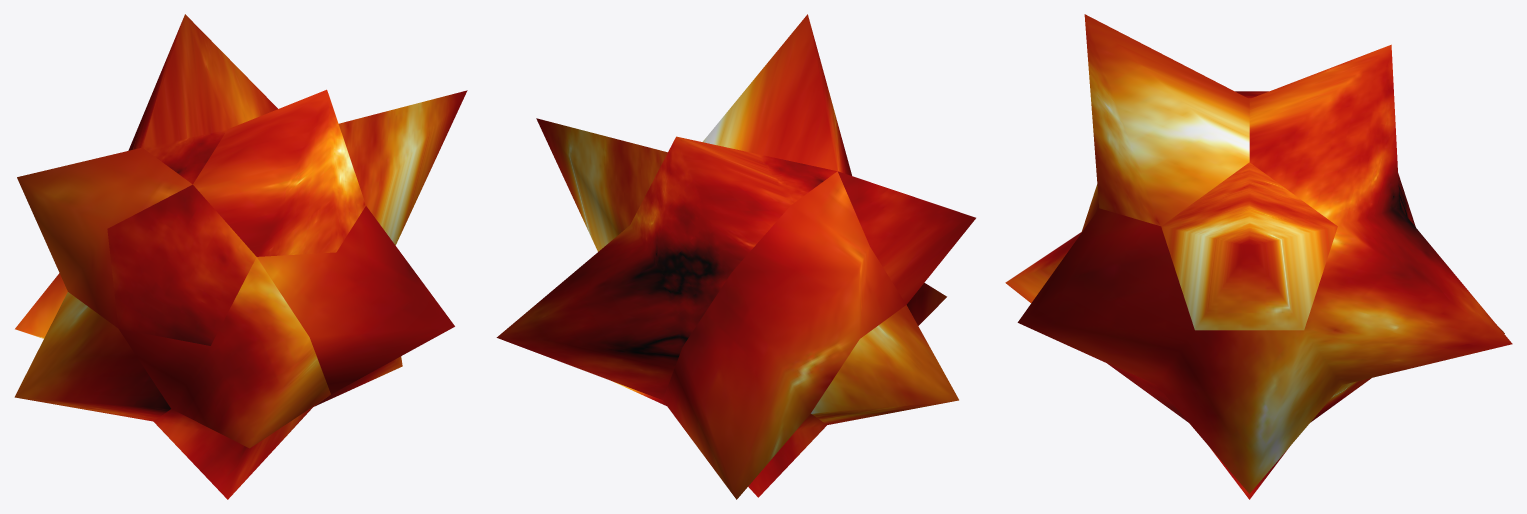
The model's file is lave.fbx.
3 renders of one model, left to right at view 1: azimuth 30°, elevation 25°; view 2: azimuth 150°, elevation 25°; view 3: azimuth 270°, elevation 25°, orthographic. The views are drawn at different scales.
Parts seen in each view (by area): view 1: Icosphere; view 2: Icosphere; view 3: Icosphere.
Boxes of the visible parts, x1=… form: Icosphere: x1=14, y1=14, x2=467, y2=499; Icosphere: x1=496, y1=14, x2=975, y2=499; Icosphere: x1=1005, y1=14, x2=1512, y2=499.
Bounding box in the file's own units: 321 × 311 × 287.
